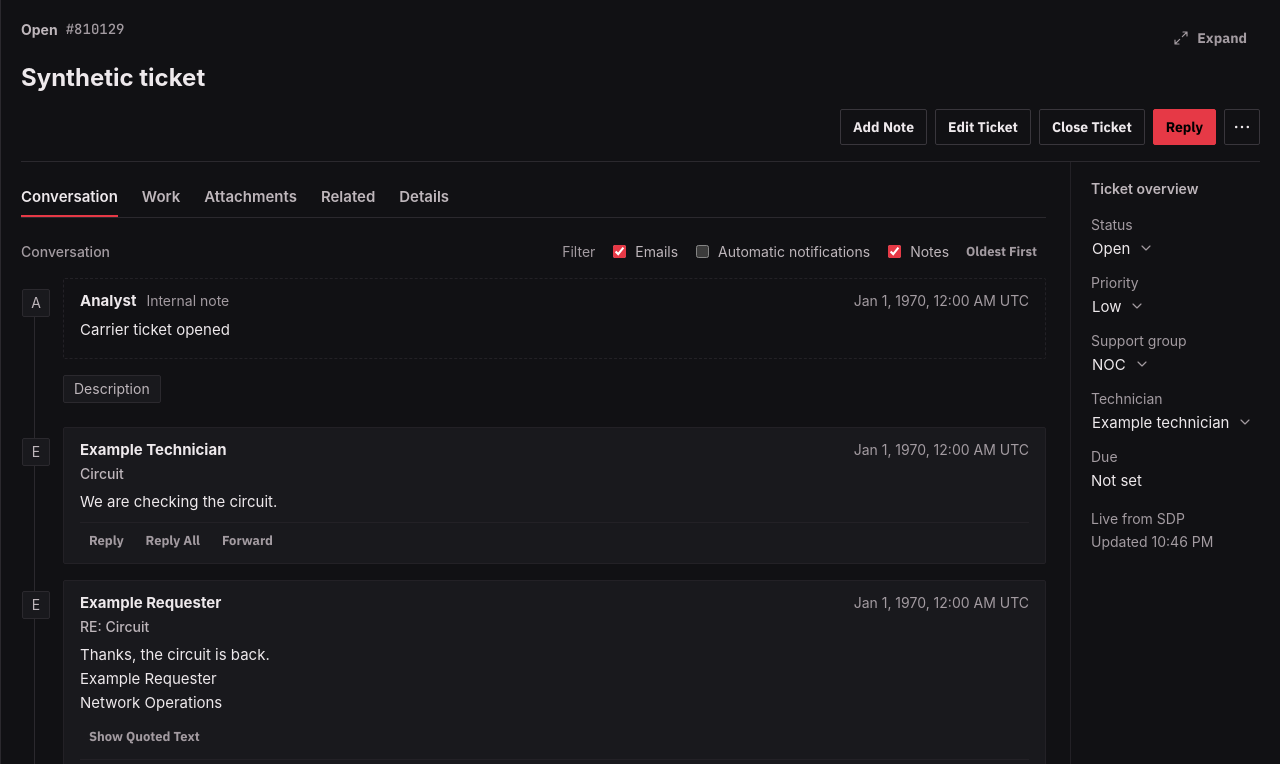
Test: shows notes at the top, then the request and emails in time order with folded quotes
Step 1. Click the button "Show Quoted Text" → (144, 737), box [80, 723, 209, 751]
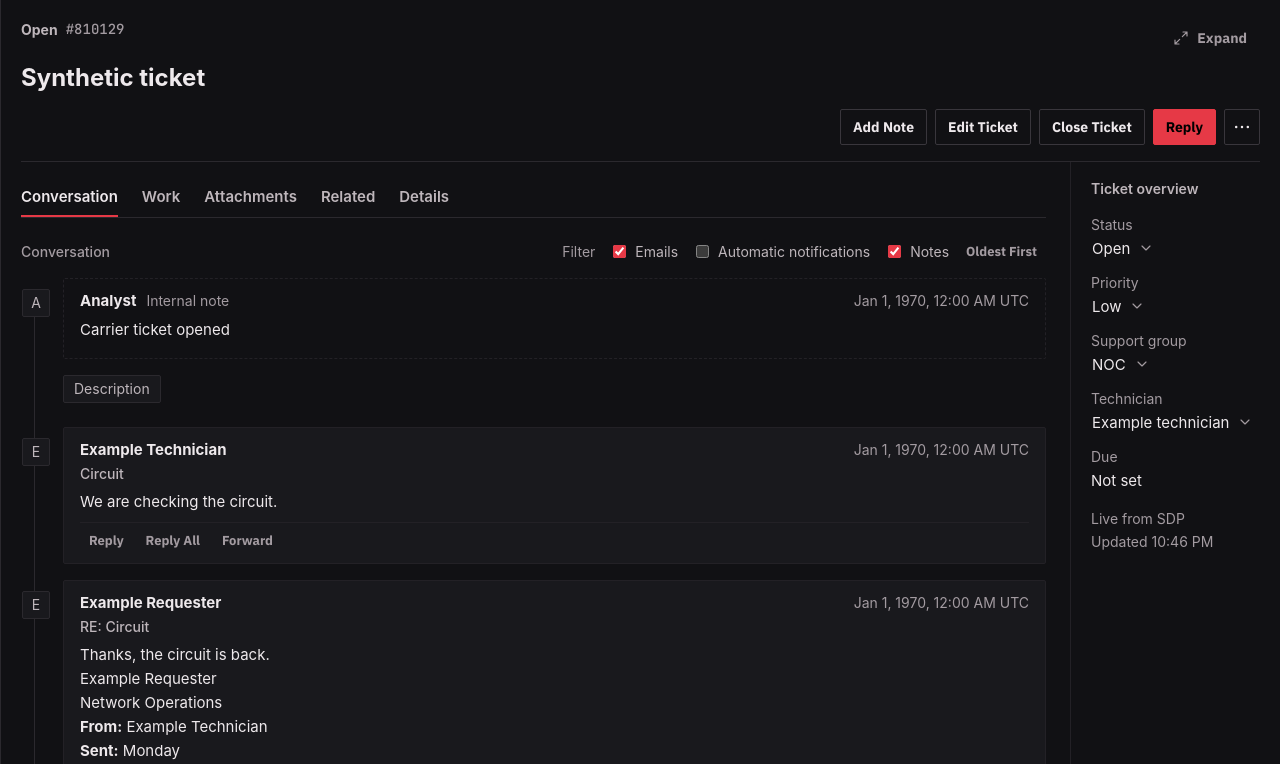
Step 2. Click the button with aria-label "Sort order: oldest first" → (1002, 252), box [957, 238, 1046, 266]
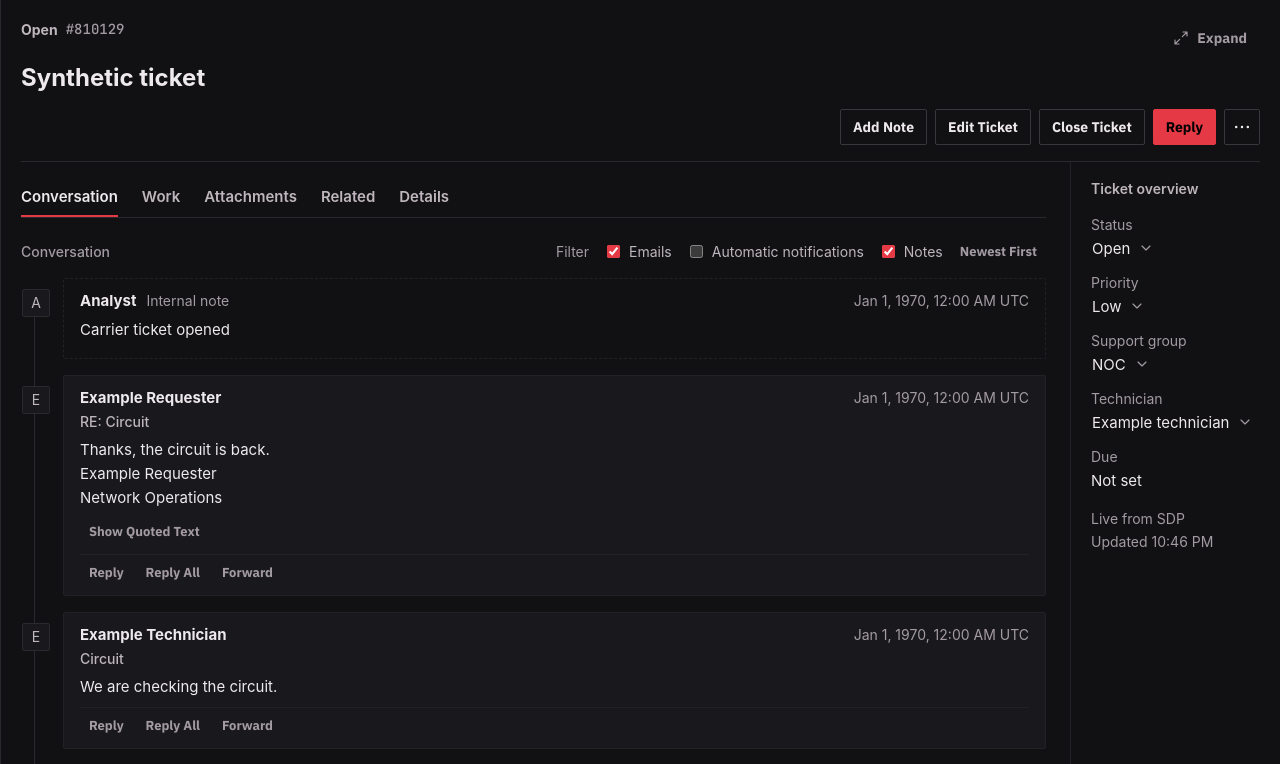
Step 3. Click the checkbox labelled "Notes" → (888, 252), box [882, 245, 895, 258]
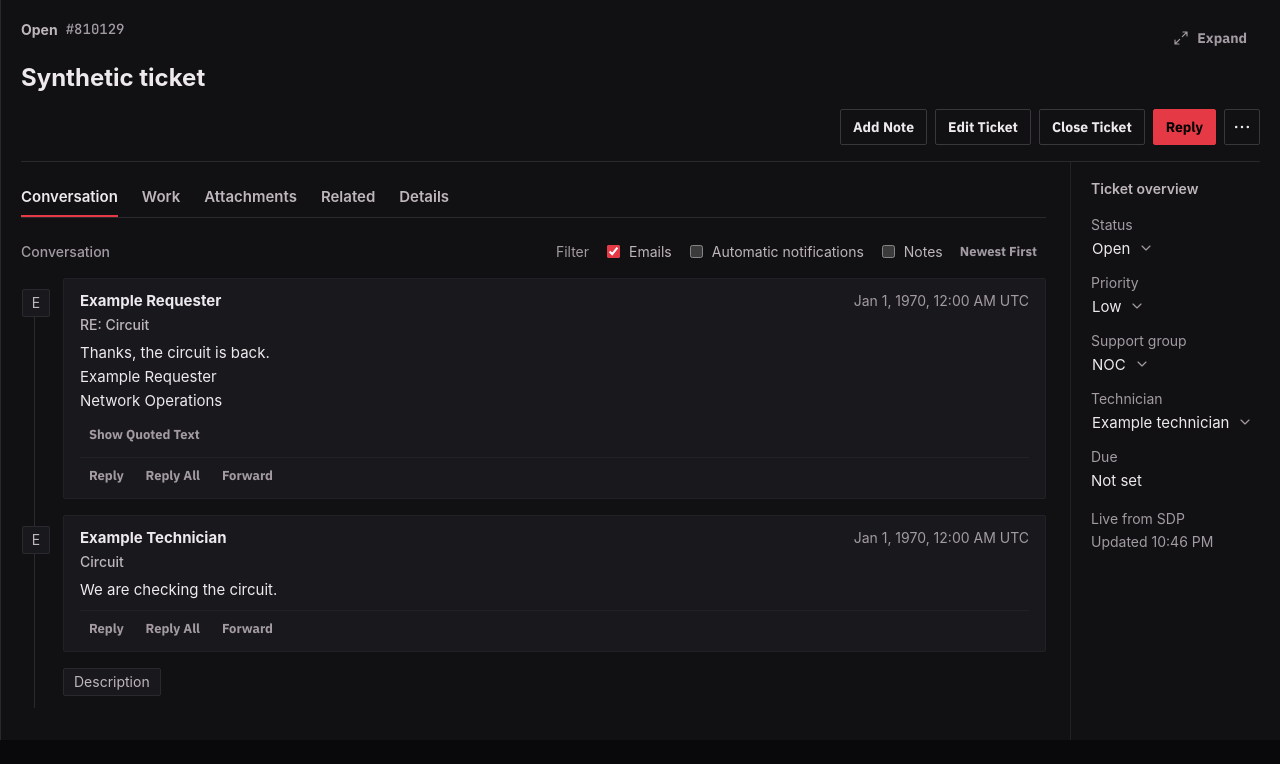
Now the text "Carrier ticket opened" is gone
